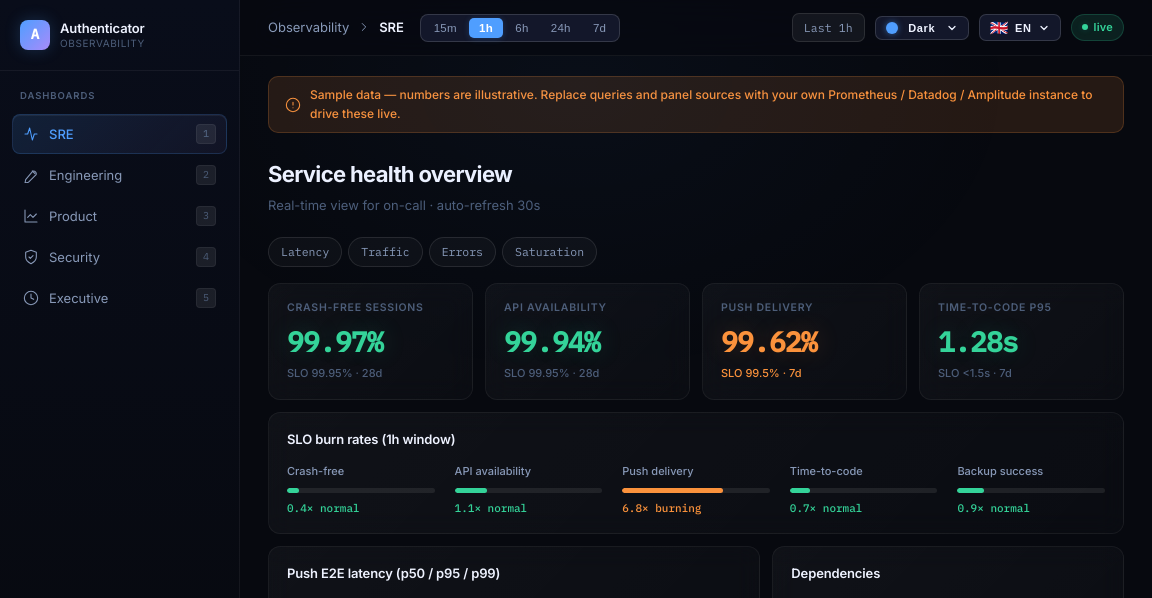
it: Language selector — Topbar rendering › closes dropdown when the toggle button is clicked again
Click the button with aria-label "select language" at coordinates (1020, 28), box [979,14,1061,41]
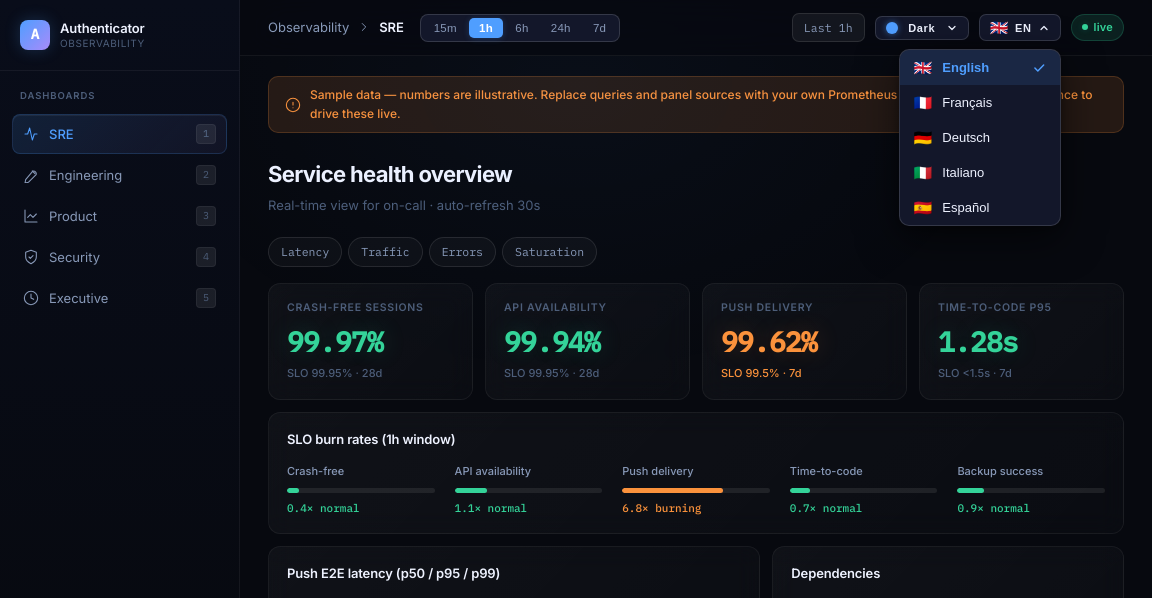
Now the text "English" is shown, box [942,60,989,75]
Click the button with aria-label "select language" at coordinates (1020, 28), box [979,14,1061,41]
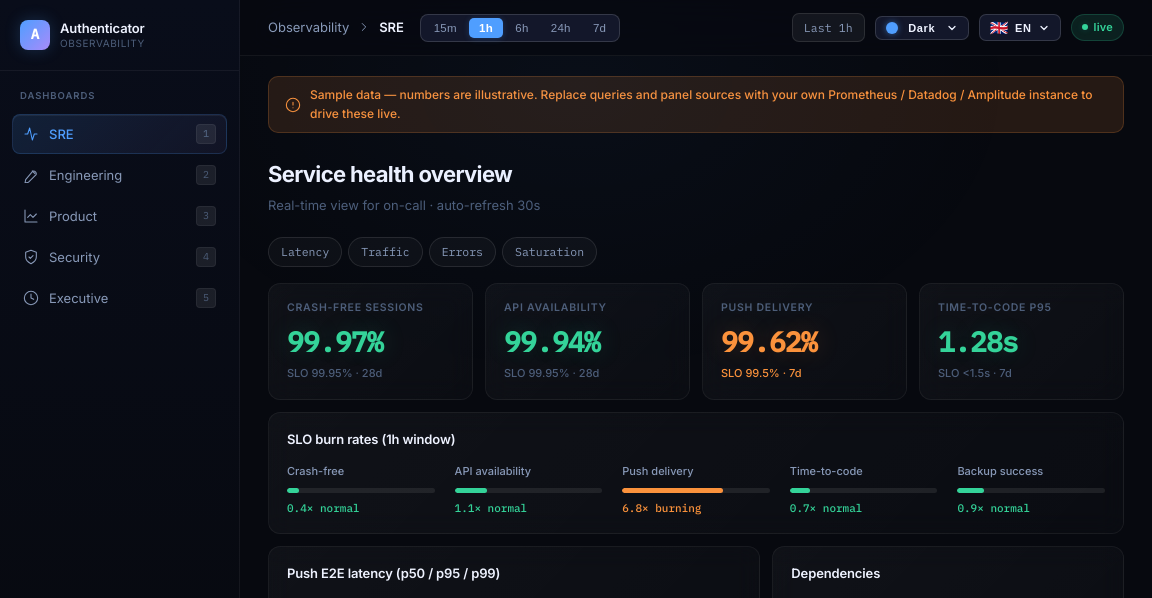
Now the button "Français" is gone
